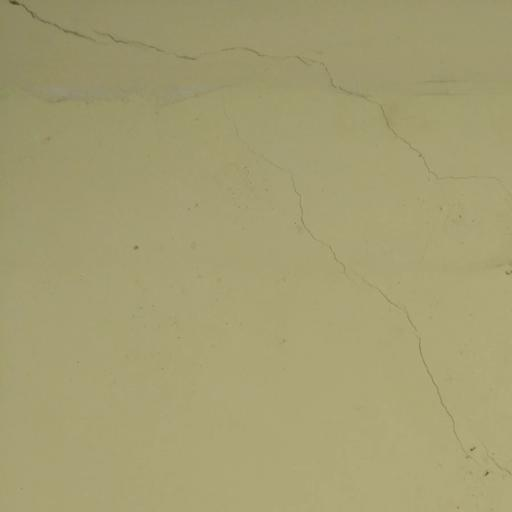minor_crack: (0, 0, 512, 204), (273, 161, 512, 503)
